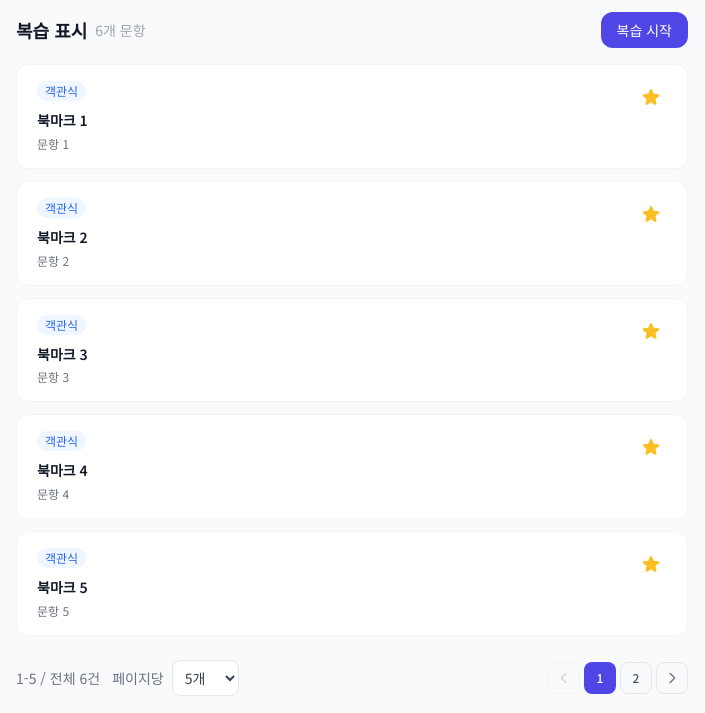
Scenario: BookmarksPage 페이지네이션 › 마지막 페이지의 유일한 북마크를 제거하면 유효한 첫 페이지로 복귀한다
Expected: the text "북마크 1" is shown, [37, 110, 88, 130]
Click the button named "다음 페이지": (672, 678) [656, 662, 688, 694]
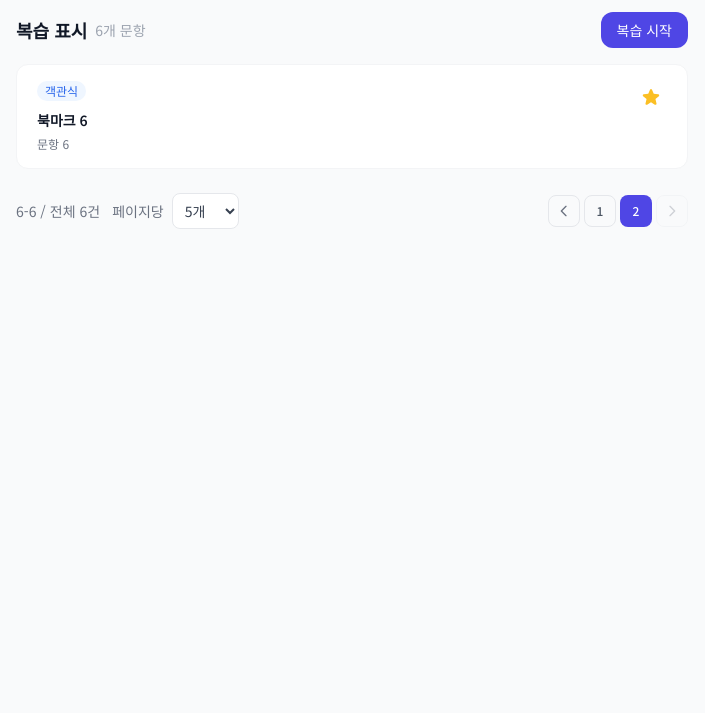
Click the button titled "복습 표시 해제": (651, 97) [635, 81, 667, 113]
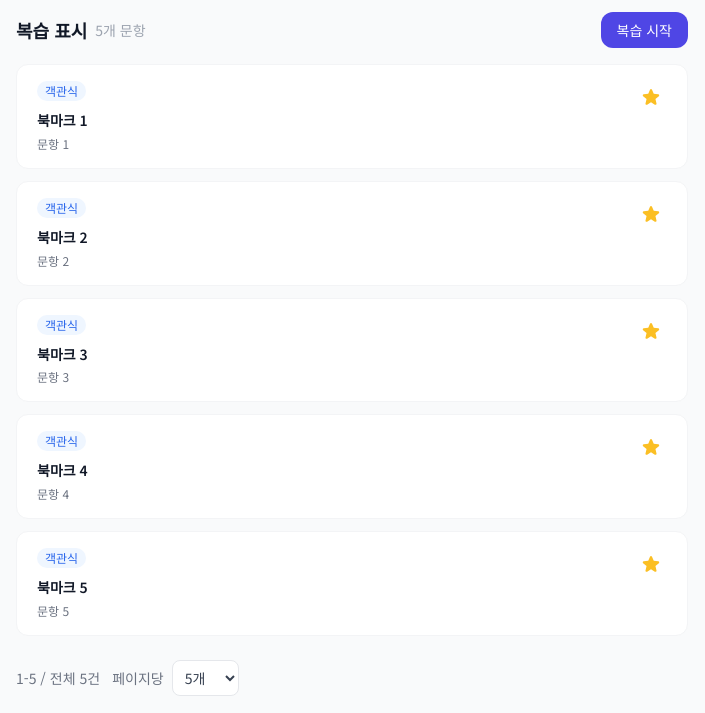
Now the text "북마크 1" is shown, box [37, 110, 88, 130]
Now the text "1-5 / 전체 5건" is shown, box [16, 668, 100, 688]
